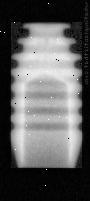Novodent: (11, 22, 82, 168)
